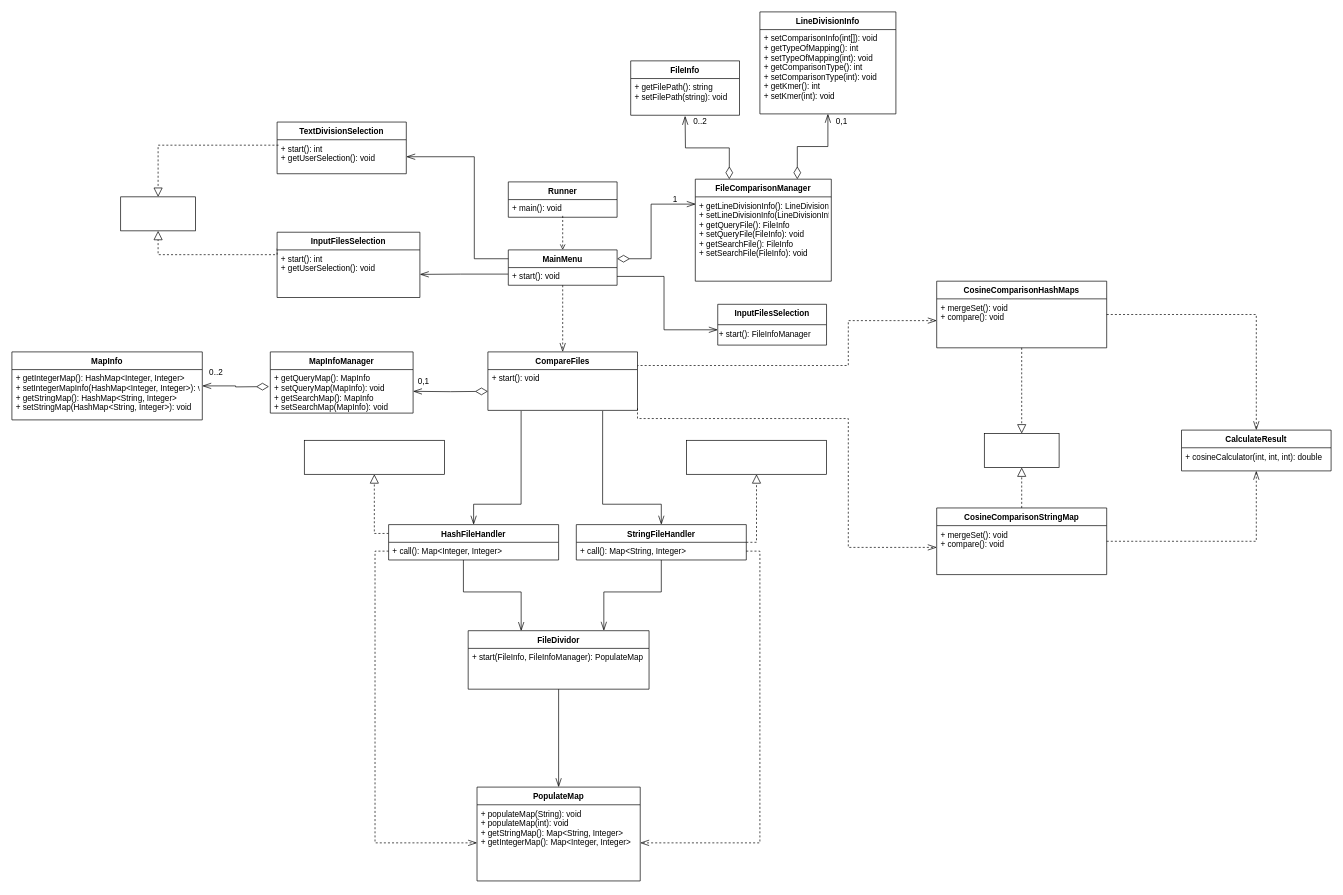
Image size: 1343x895. Some labels were removed from this diagram. The centre of each missing label's shape, as x and y in pixels:
"«interface» Callable<Map<Integer, Integer>>" goes at (374,457).
"«interface» Callable<Map<String, Integer>>" goes at (756,457).
"«interface» MapComparable" goes at (1021,450).
"«interface» Menuable" goes at (158,213).
